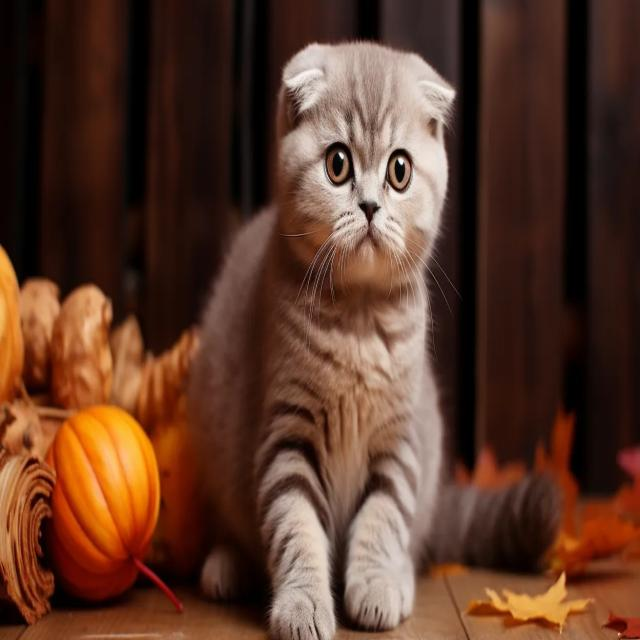Scottish Fold: (183, 35, 559, 640)
